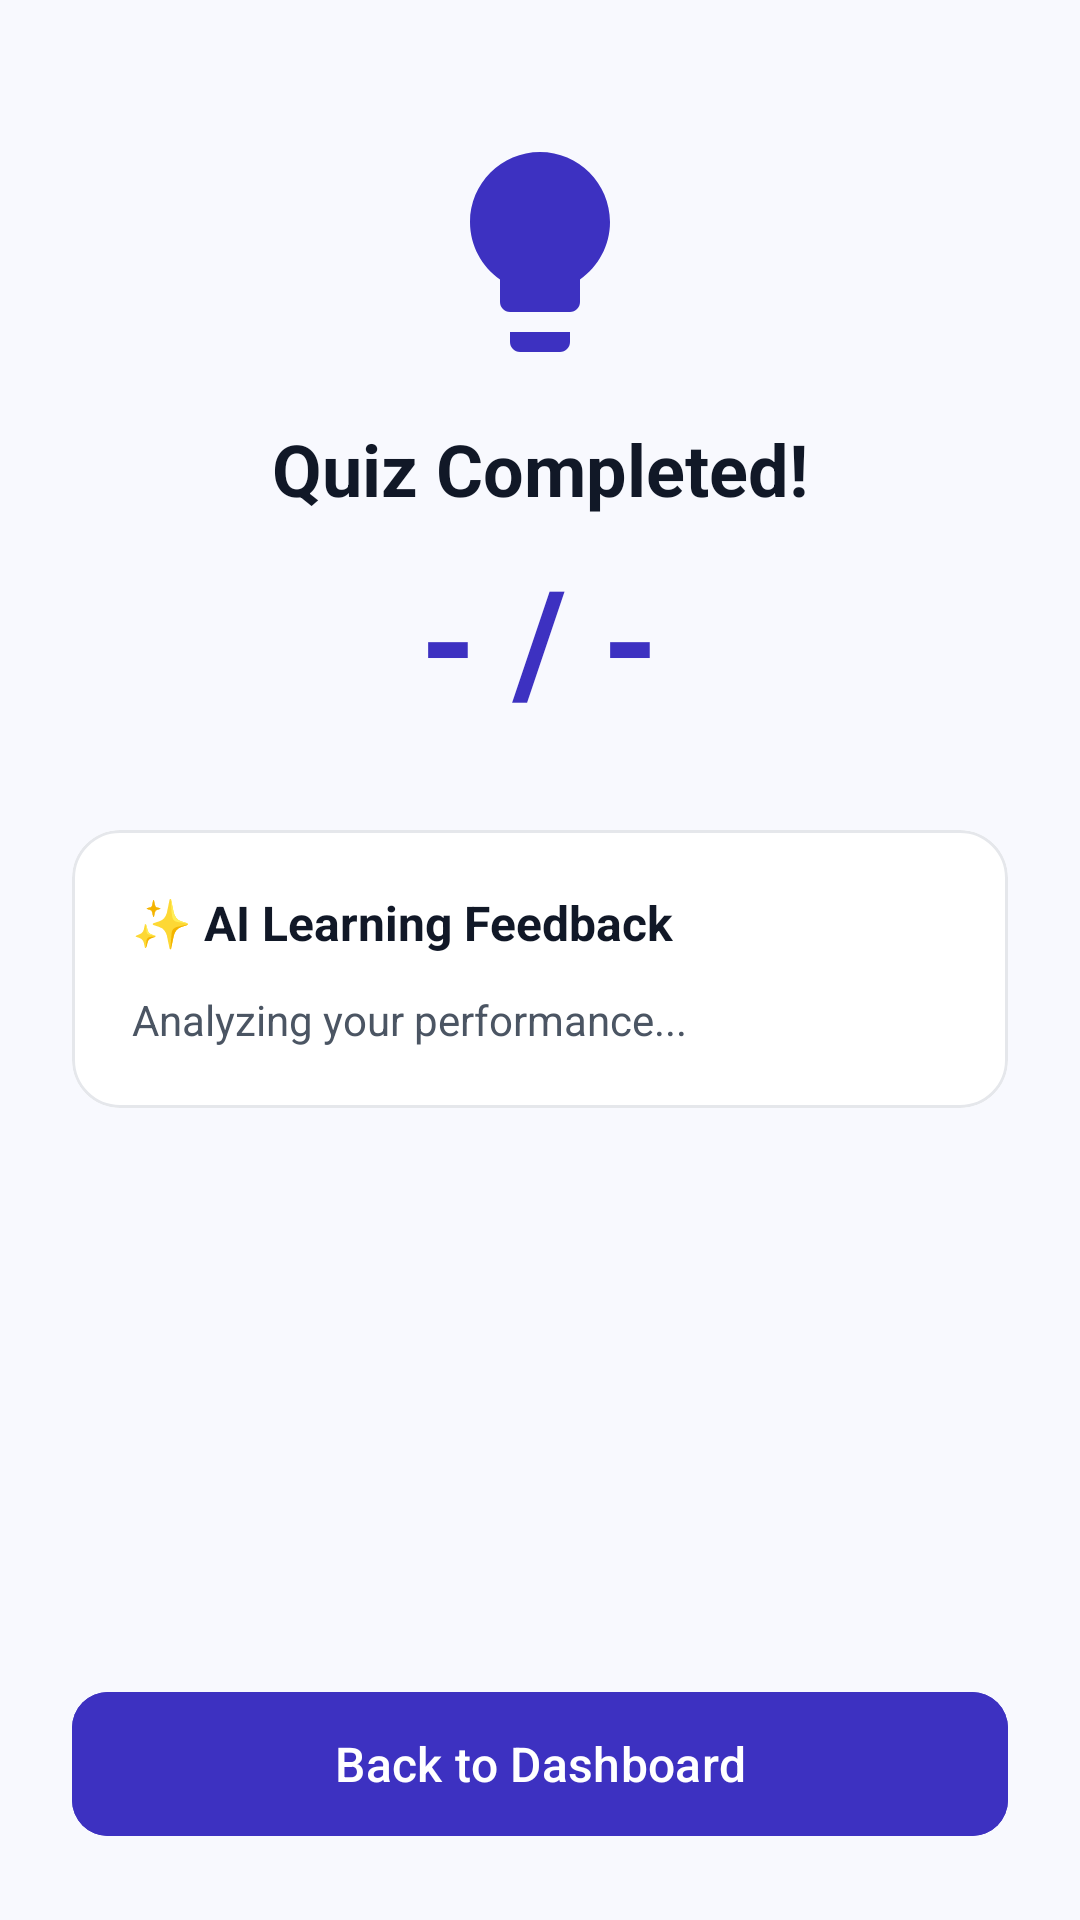

Icons on this 1080px x 1920px Android screen, each with its box as (left=x1, top=y1, right=x2, bottom=y2):
lightbulb: (left=470, top=152, right=610, bottom=352)
